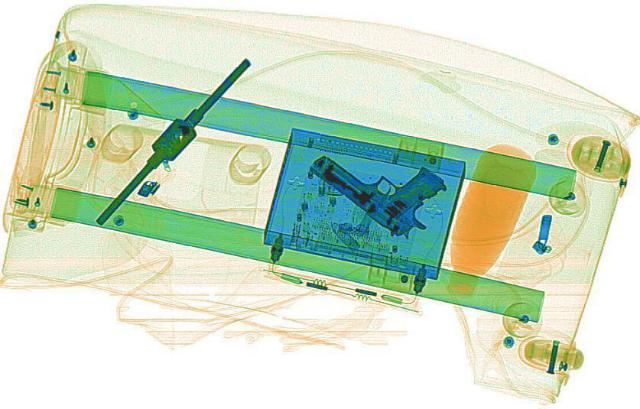Gun: (297, 130, 478, 241)
